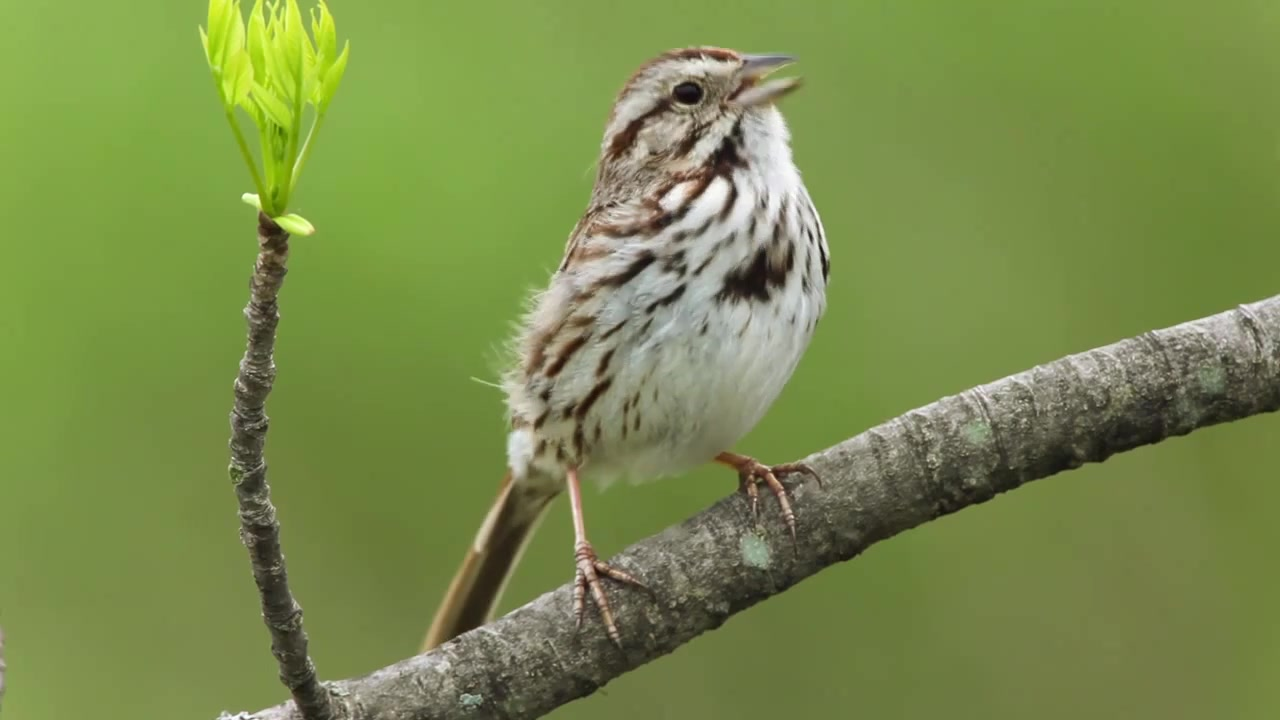bird: (422, 45, 835, 663)
